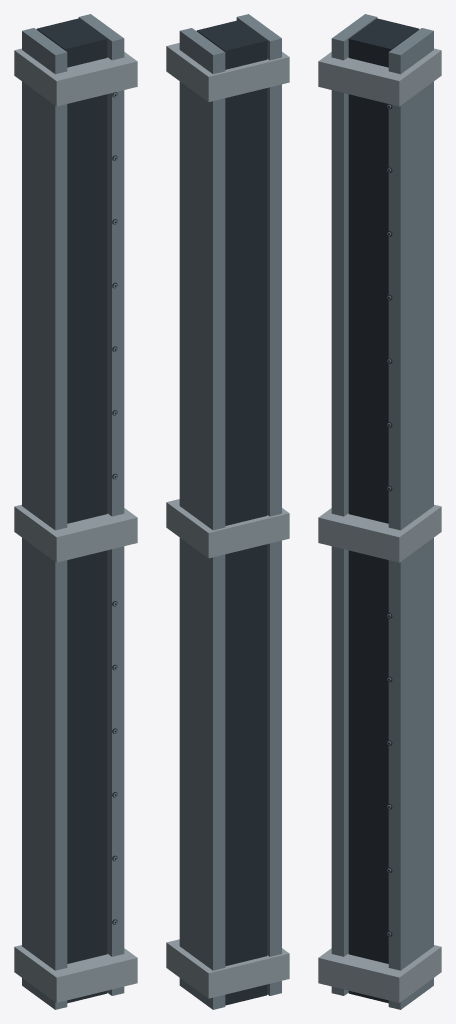
File: SM_Lab_Column.fbx
The picture shows the model from 3 angles, left to right: view 1: azimuth 30°, elevation 25°; view 2: azimuth 210°, elevation 25°; view 3: azimuth 330°, elevation 25°; orthographic projection.
Parts seen in each view (by area): view 1: SM_Lab_Column; view 2: SM_Lab_Column; view 3: SM_Lab_Column.
Part boxes in pixels (box(x1,y1,x2,y2)): SM_Lab_Column: box(14, 14, 137, 1009); SM_Lab_Column: box(166, 14, 289, 1009); SM_Lab_Column: box(318, 14, 441, 1009).
Bounding box in the file's own units: 80 × 72 × 900.
